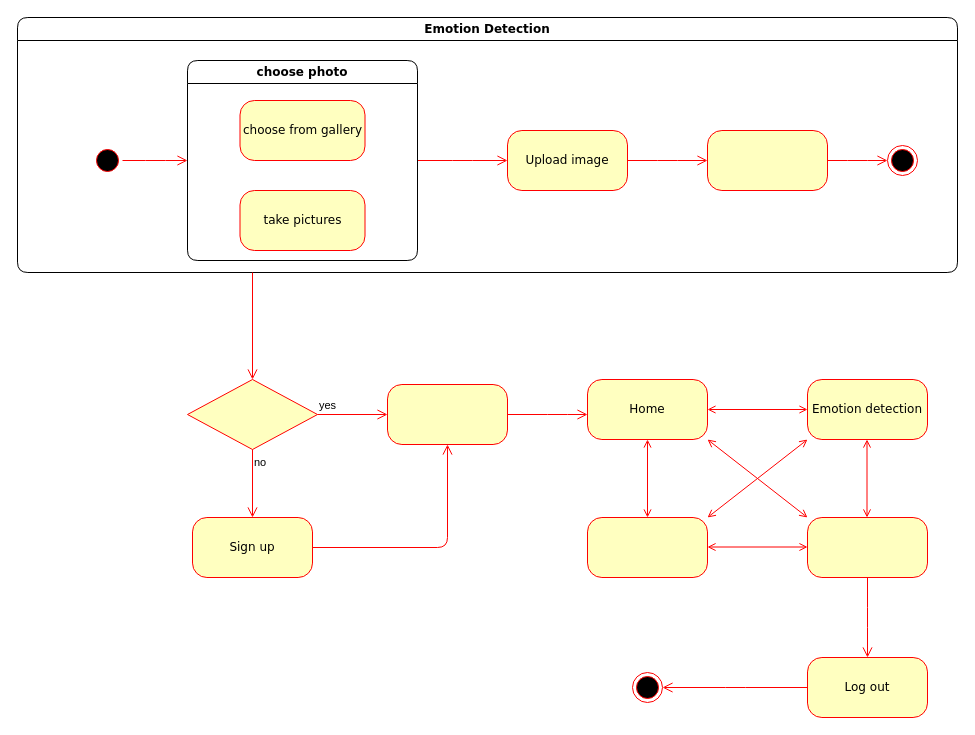
Some shapes in this 975 by 735 pixel diagram are drawn without their labels. The centre of each missing label's shape, as x and y in pixels:
Have an account: [252,414]
History: [647,547]
Log in: [447,414]
Profile: [867,547]
return detection result: [767,160]
